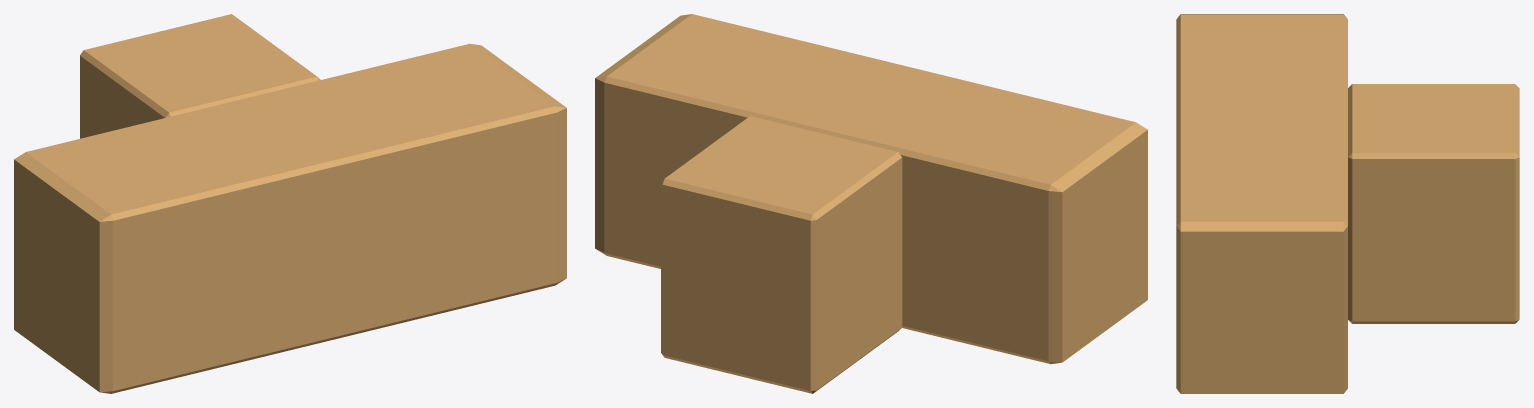
Rendered from wall_junction_T.glb.
3 renders of one model, left to right at view 1: azimuth 30°, elevation 25°; view 2: azimuth 150°, elevation 25°; view 3: azimuth 270°, elevation 25°, orthographic. The views are drawn at different scales.
Parts seen in each view (by area): view 1: Junction crossbar.001, Junction stem.001; view 2: Junction crossbar.001, Junction stem.001; view 3: Junction crossbar.001, Junction stem.001.
Part boxes in pixels (<box>): Junction crossbar.001: <box>14,43,566,393</box>; Junction stem.001: <box>80,14,320,138</box>; Junction crossbar.001: <box>595,14,1147,364</box>; Junction stem.001: <box>661,116,902,393</box>; Junction crossbar.001: <box>1176,14,1347,393</box>; Junction stem.001: <box>1348,84,1519,323</box>.
Size of the model in its own units: 3 by 1.1 by 2.
